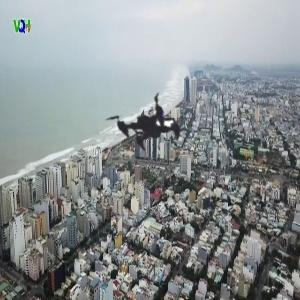drone: (53, 21, 263, 231)
